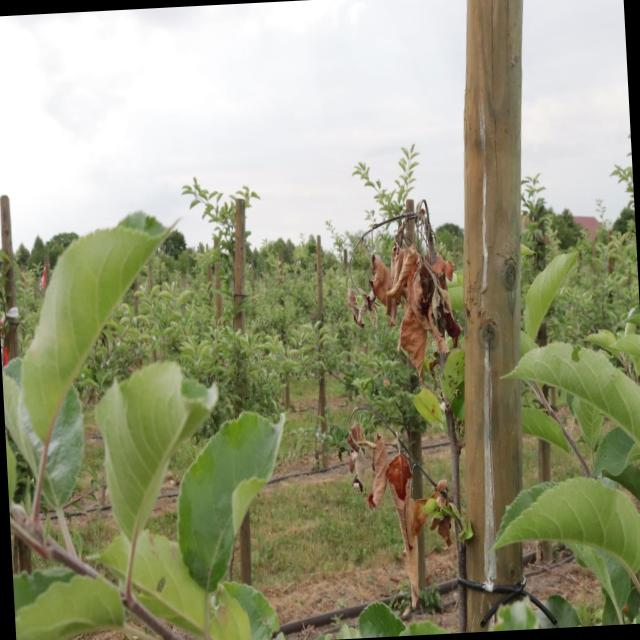-FireBlight-: (342, 403, 432, 620), (351, 213, 469, 364)
